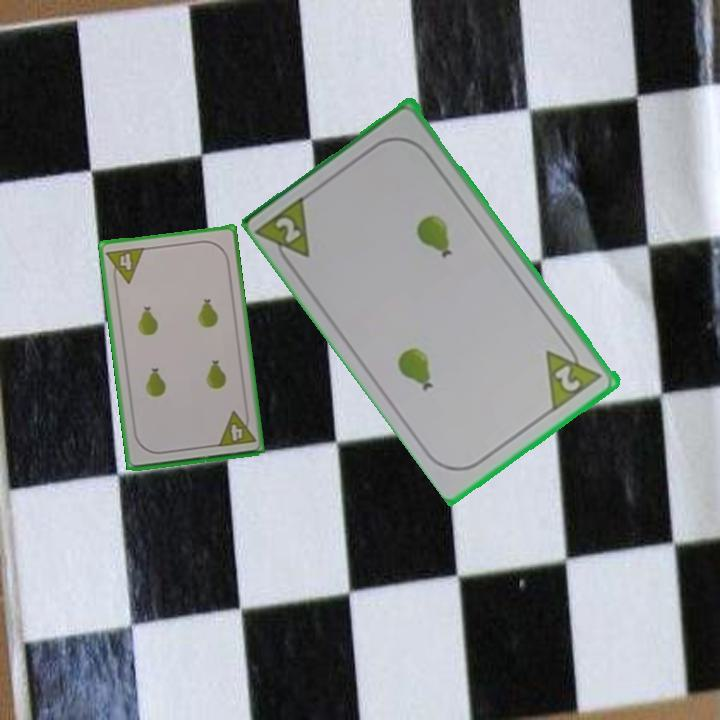2p: (542, 335, 606, 413), (255, 190, 314, 274)
4p: (103, 243, 147, 288), (214, 407, 258, 450)
